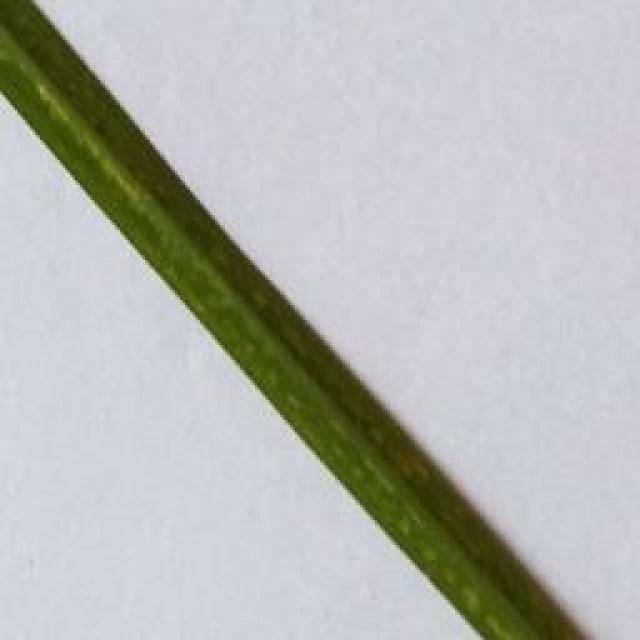Healthy-Plant: (0, 0, 580, 640)
